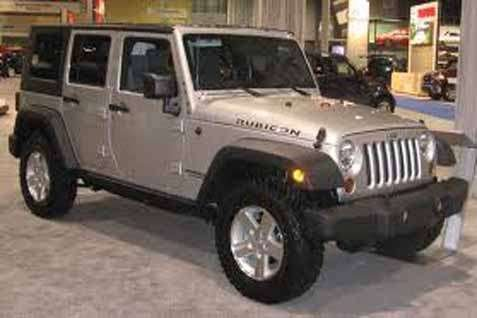mobil: (19, 21, 457, 287)
